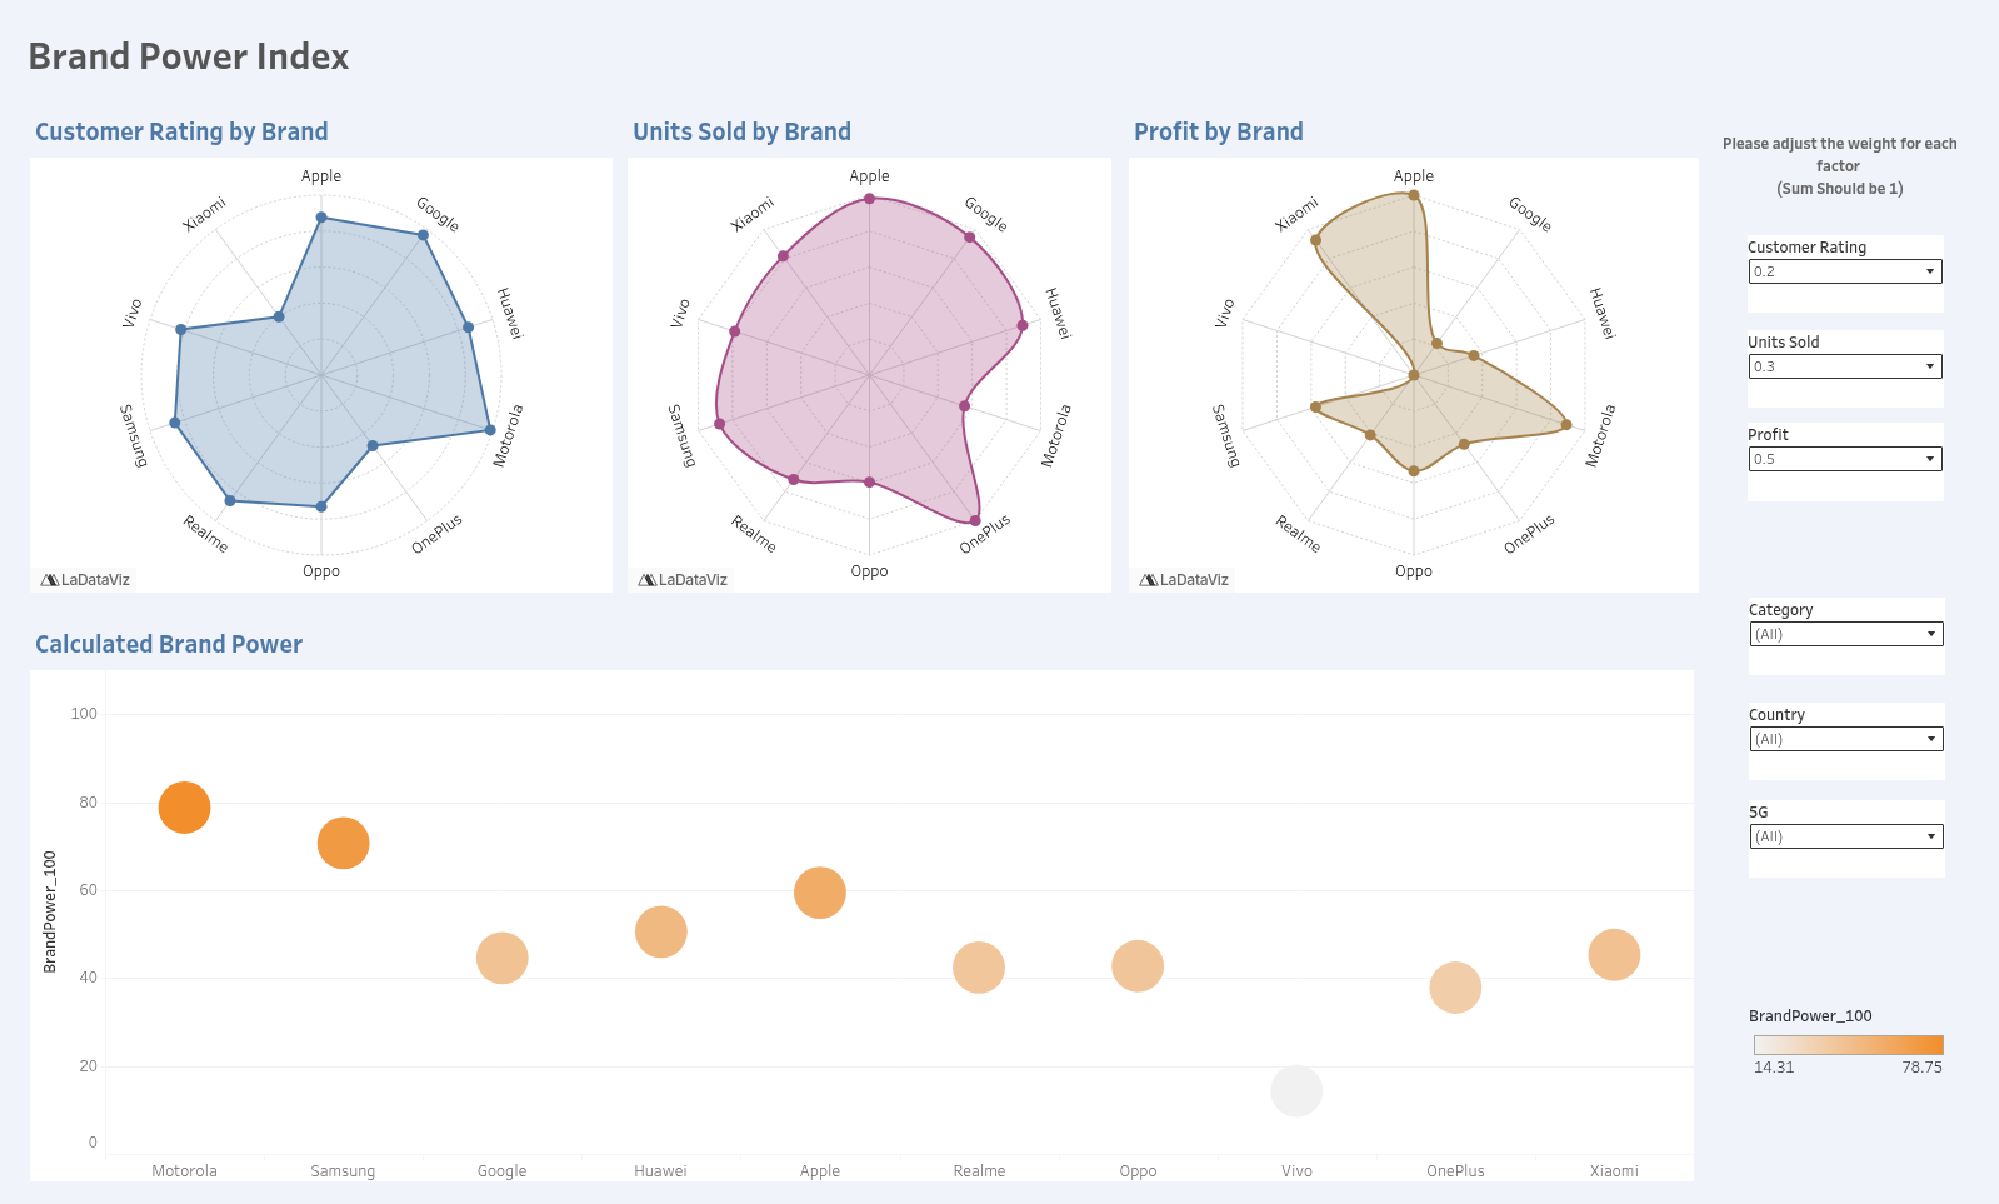

Layout of this report page (visuals, bound fields, positions):
{"tool":"tableau","page":{"name":"4.Diagnostic Analysis","canvas":[1000,1000],"units":"permille","ordinal":7},"visuals":[{"type":"text","box":[13.6,10.4,266.8,68.1]},{"type":"text","box":[852.9,82,134,109.7]},{"type":"worksheet","title":"Customer Rating by Brand","box":[14.9,87.8,291.2,404.2]},{"type":"worksheet","title":"Unit Sold by Brand","box":[313.6,87.8,241.9,404.2]},{"type":"worksheet","title":"Profit by Brand","box":[564.1,87.8,285,404.2]},{"type":"parameter","param":"[Parameters].[Parameter 1]","box":[874.1,195.2,97.9,64.7]},{"type":"parameter","param":"[Parameters].[Parameter 3]","box":[874.1,273.7,97.9,64.7]},{"type":"parameter","param":"[Parameters].[Parameter 2]","box":[874.1,351,97.9,64.7]},{"type":"filter","title":"Brand Power by User's Customeized weight ","param":"[federated.133nf490kqtoen14o6drk1ew0xuc].[none:Category:nk]","box":[874.6,495.4,97.8,64.7]},{"type":"worksheet","title":"Brand Power by User's Customeized weight ","mark":"Circle","cols":["Brand"],"box":[15,513.9,831.7,466.5]},{"type":"filter","title":"Brand Power by User's Customeized weight ","param":"[federated.133nf490kqtoen14o6drk1ew0xuc].[none:Country:nk]","box":[874.6,583.1,97.8,64.7]},{"type":"filter","title":"Brand Power by User's Customeized weight ","param":"[federated.133nf490kqtoen14o6drk1ew0xuc].[none:Has5G:nk]","box":[874.6,664,97.8,64.7]},{"type":"legend","title":"Brand Power by User's Customeized weight ","param":"[federated.133nf490kqtoen14o6drk1ew0xuc].[usr:Calculation_1437211239654010890:qk","box":[874.6,833.7,99.9,121.2]}]}

Visuals, with their boxes on the dashboard's canvas, which has no fixed pixel size, in thousandths of its width and height (x1, y1, x2, y2). These are canvas units, not pixel positions in the 1999x1204 screenshot, which may show the page scaled, cropped or inside an application window:
text: locate(14, 10, 280, 78)
text: locate(853, 82, 987, 192)
"Customer Rating by Brand" worksheet: locate(15, 88, 306, 492)
"Unit Sold by Brand" worksheet: locate(314, 88, 556, 492)
"Profit by Brand" worksheet: locate(564, 88, 849, 492)
parameter: locate(874, 195, 972, 260)
parameter: locate(874, 274, 972, 338)
parameter: locate(874, 351, 972, 416)
"Brand Power by User's Customeized weight " filter: locate(875, 495, 972, 560)
"Brand Power by User's Customeized weight " worksheet (Circle marks): locate(15, 514, 847, 980)
"Brand Power by User's Customeized weight " filter: locate(875, 583, 972, 648)
"Brand Power by User's Customeized weight " filter: locate(875, 664, 972, 729)
"Brand Power by User's Customeized weight " legend: locate(875, 834, 974, 955)
